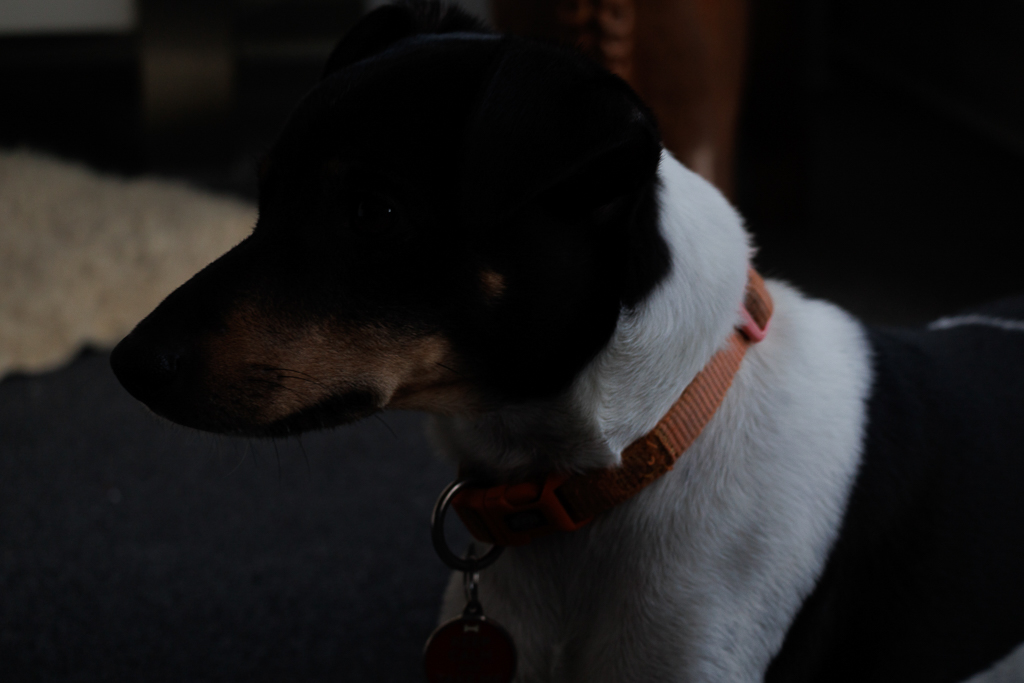Cattle: (568, 0, 748, 219)
Dog: (102, 0, 1023, 683)
